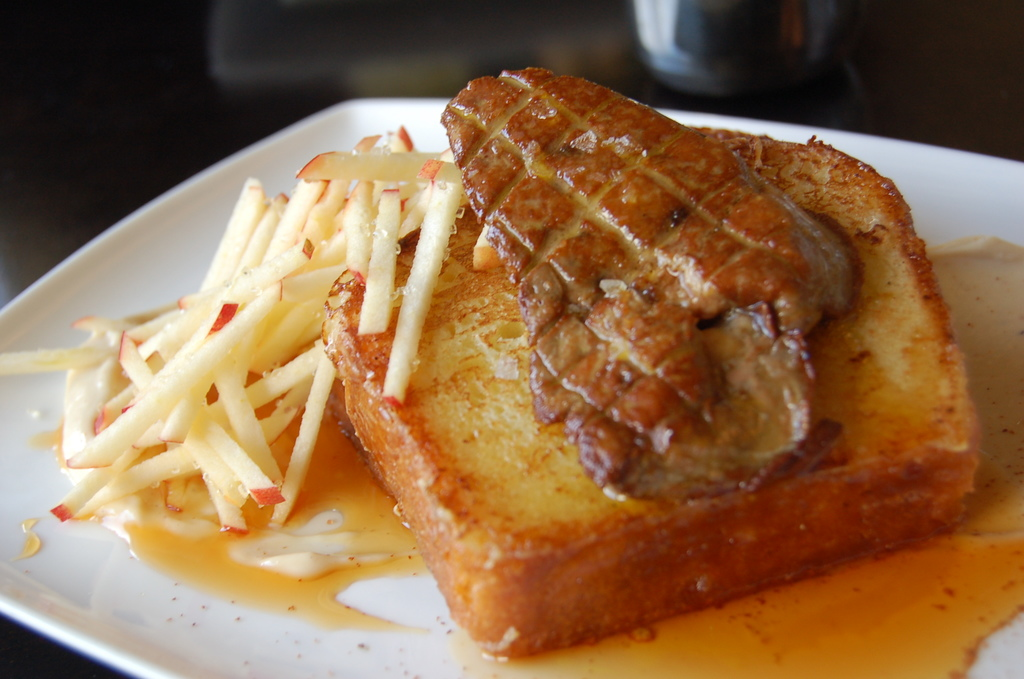French fries: (59, 147, 496, 604)
